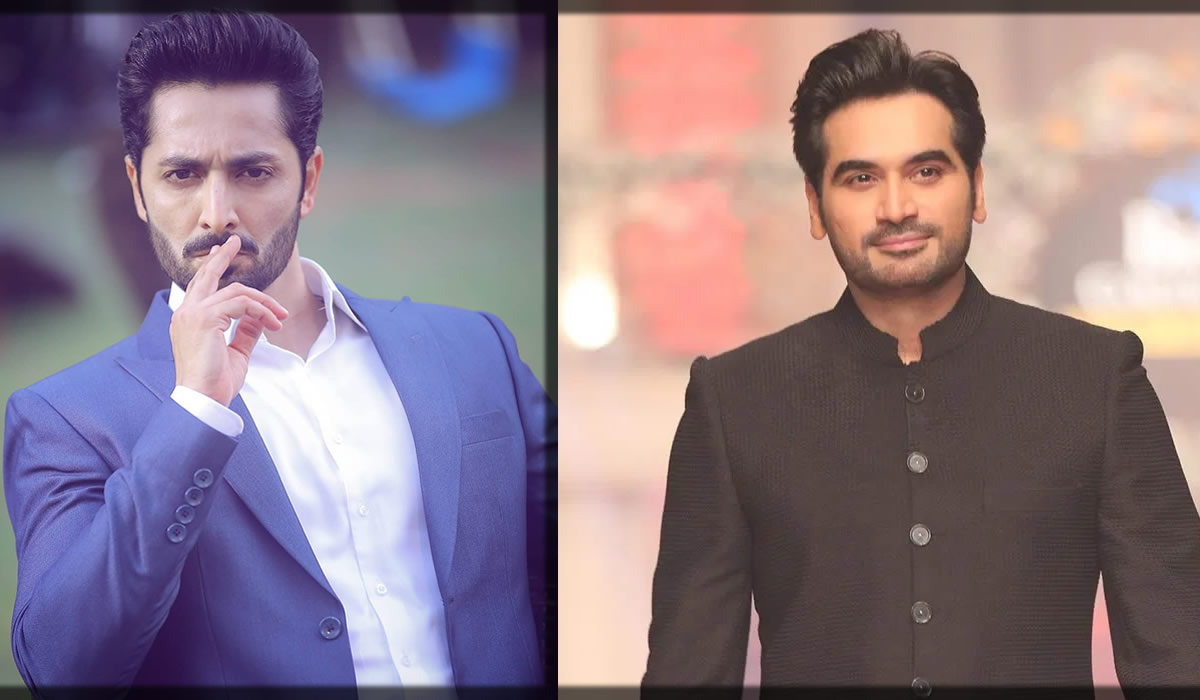NoMask: (149, 142, 295, 289), (831, 144, 964, 292)
